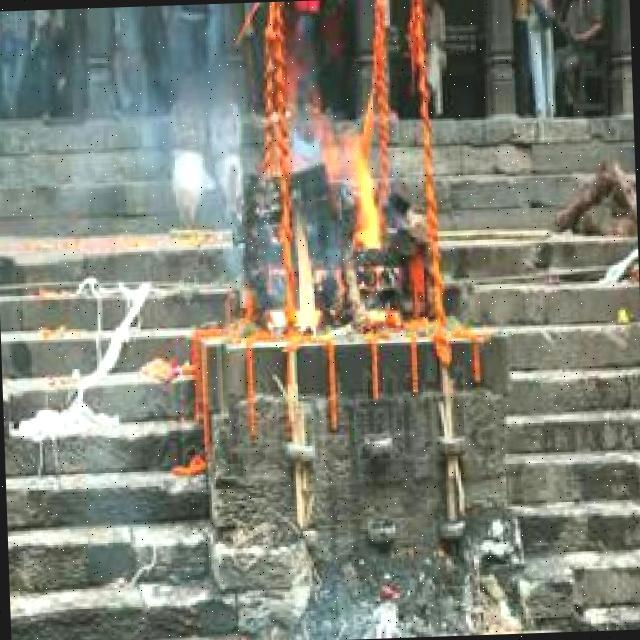Fire: (266, 88, 394, 335)
